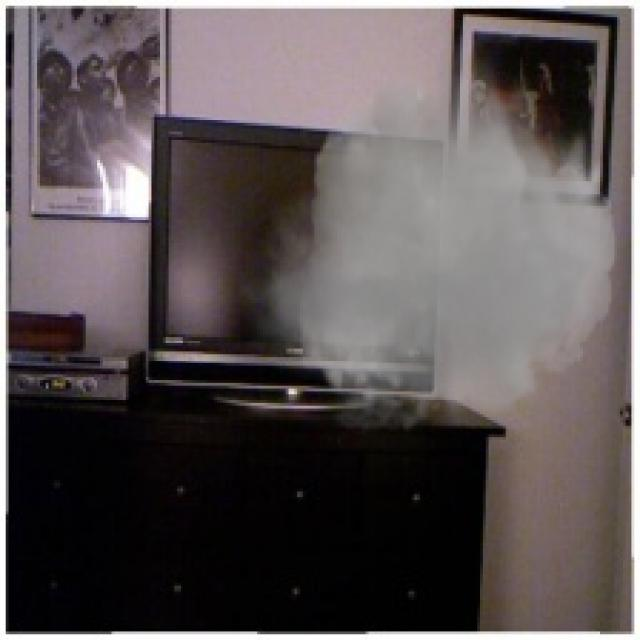smoke: (237, 29, 626, 448)
